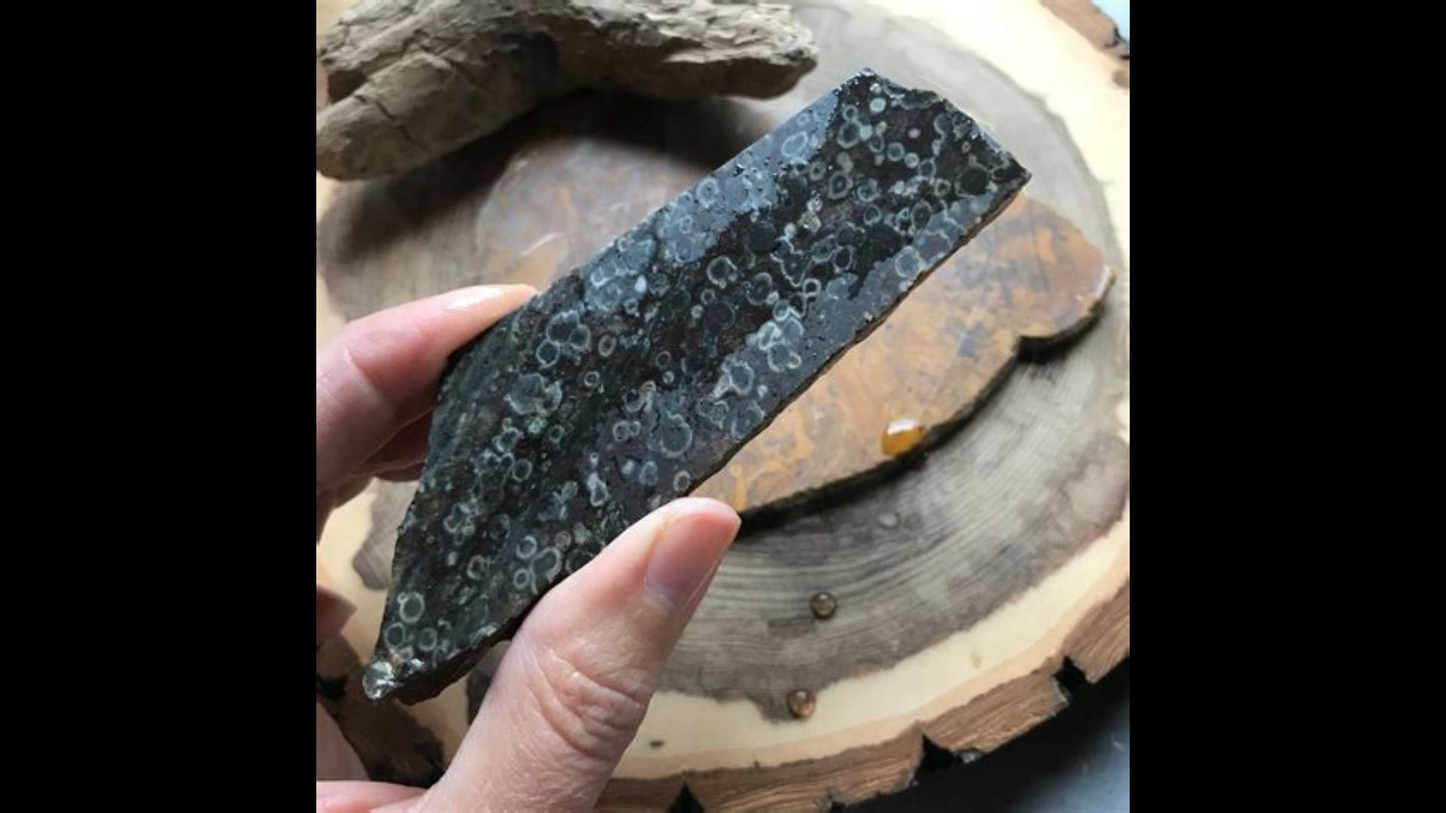rock: (370, 72, 1027, 693)
